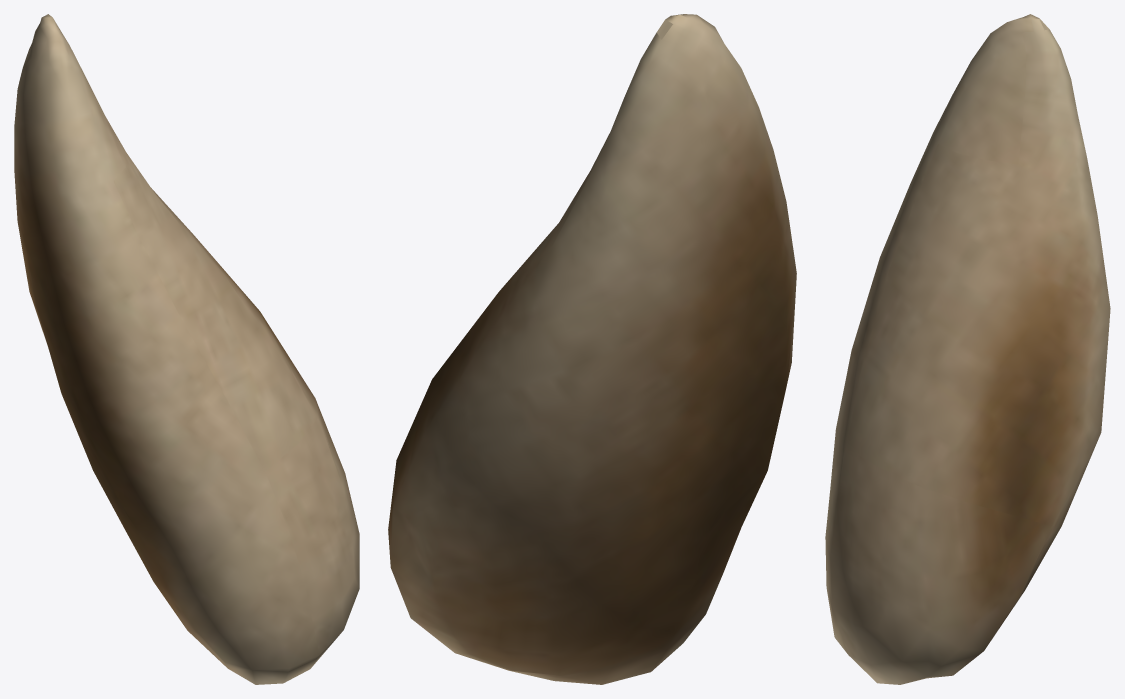
Rendered from Upper_Incisor4.glb.
3 renders of one model, left to right at view 1: azimuth 30°, elevation 25°; view 2: azimuth 150°, elevation 25°; view 3: azimuth 270°, elevation 25°, orthographic. The views are drawn at different scales.
Parts seen in each view (by area): view 1: Upper_Incisor1; view 2: Upper_Incisor1; view 3: Upper_Incisor1.
Boxes of the visible parts, x1=… form: Upper_Incisor1: x1=14, y1=14, x2=359, y2=684; Upper_Incisor1: x1=388, y1=14, x2=796, y2=684; Upper_Incisor1: x1=825, y1=14, x2=1110, y2=684.
Size of the model in its own units: 0.0166 by 0.0332 by 0.0146.
1 material, 1 textured.
